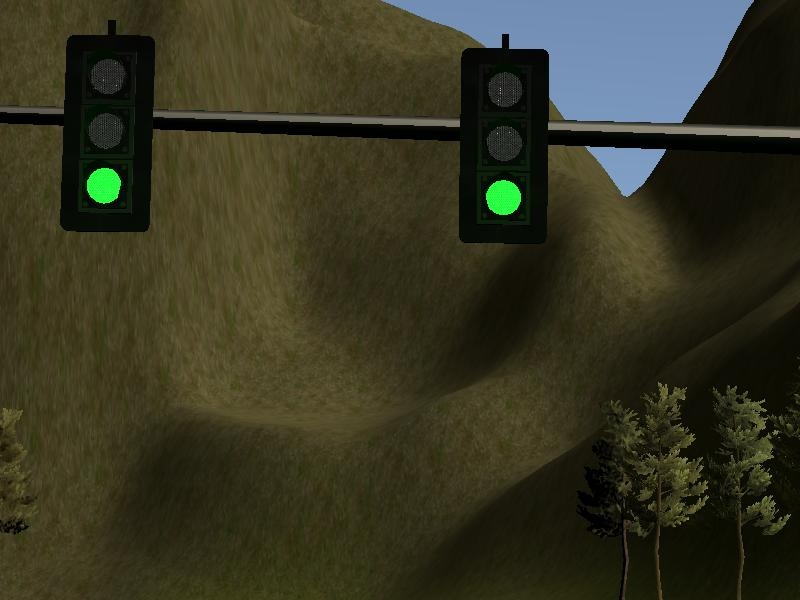GREEN: (59, 32, 159, 234), (458, 44, 551, 244)
